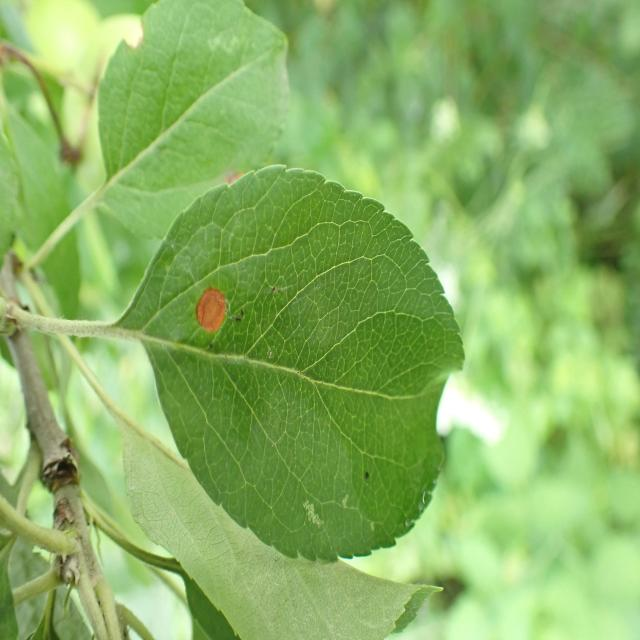Black Rot: (187, 280, 241, 356)
